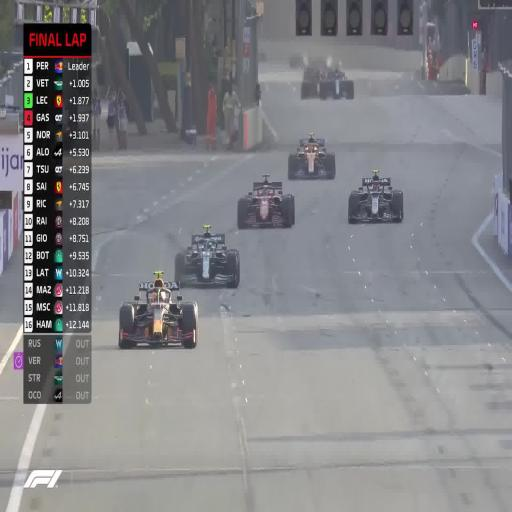f1_car: (118, 271, 198, 348), (175, 225, 240, 288), (237, 174, 294, 229), (348, 170, 403, 223), (288, 133, 335, 180), (301, 62, 354, 99)
